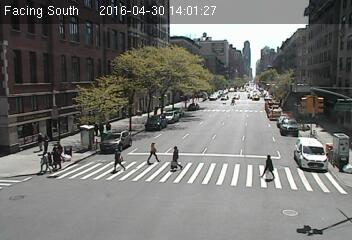neg: (26, 83, 46, 110), (310, 67, 325, 87), (128, 100, 142, 119), (74, 60, 88, 78), (117, 60, 130, 78), (224, 92, 237, 109), (196, 81, 209, 98), (144, 62, 157, 79), (102, 115, 113, 130), (313, 107, 322, 120), (267, 108, 276, 120), (317, 139, 326, 151), (163, 95, 171, 107), (270, 73, 277, 81), (205, 186, 211, 193), (216, 77, 221, 83)
pos: (257, 150, 280, 181), (163, 143, 185, 171), (144, 139, 165, 166), (108, 145, 128, 171), (48, 140, 66, 164), (38, 149, 52, 168), (34, 130, 47, 148), (41, 132, 53, 149)
